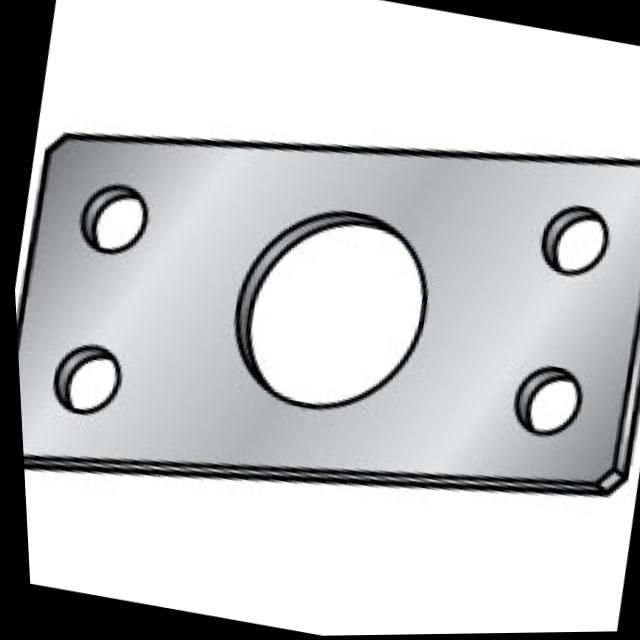holes: (219, 195, 438, 431), (45, 341, 124, 424), (535, 202, 612, 287), (507, 365, 584, 448), (75, 181, 152, 263)
